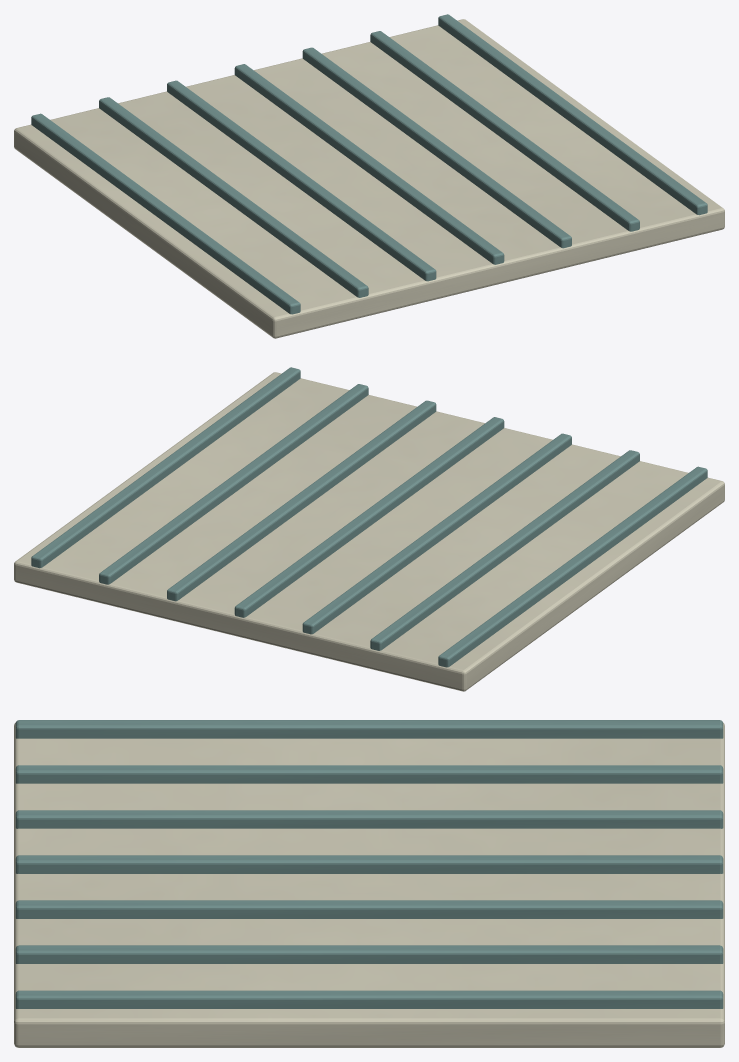
File: Roof_Panel_4m.glb
3 views of the same model, one above another, from view 1: azimuth 30°, elevation 25°; view 2: azimuth 150°, elevation 25°; view 3: azimuth 270°, elevation 25° (orthographic). The views are drawn at different scales.
Visible parts, largest first — view 1: Roof_Panel_4m; view 2: Roof_Panel_4m; view 3: Roof_Panel_4m.
Boxes of the visible parts, <box> form: Roof_Panel_4m: <box>14,14,724,338</box>; Roof_Panel_4m: <box>14,367,724,691</box>; Roof_Panel_4m: <box>14,720,724,1047</box>.
Size of the model in its own units: 4 by 0.255 by 4.
Materials: 2 (2 with a texture image).
